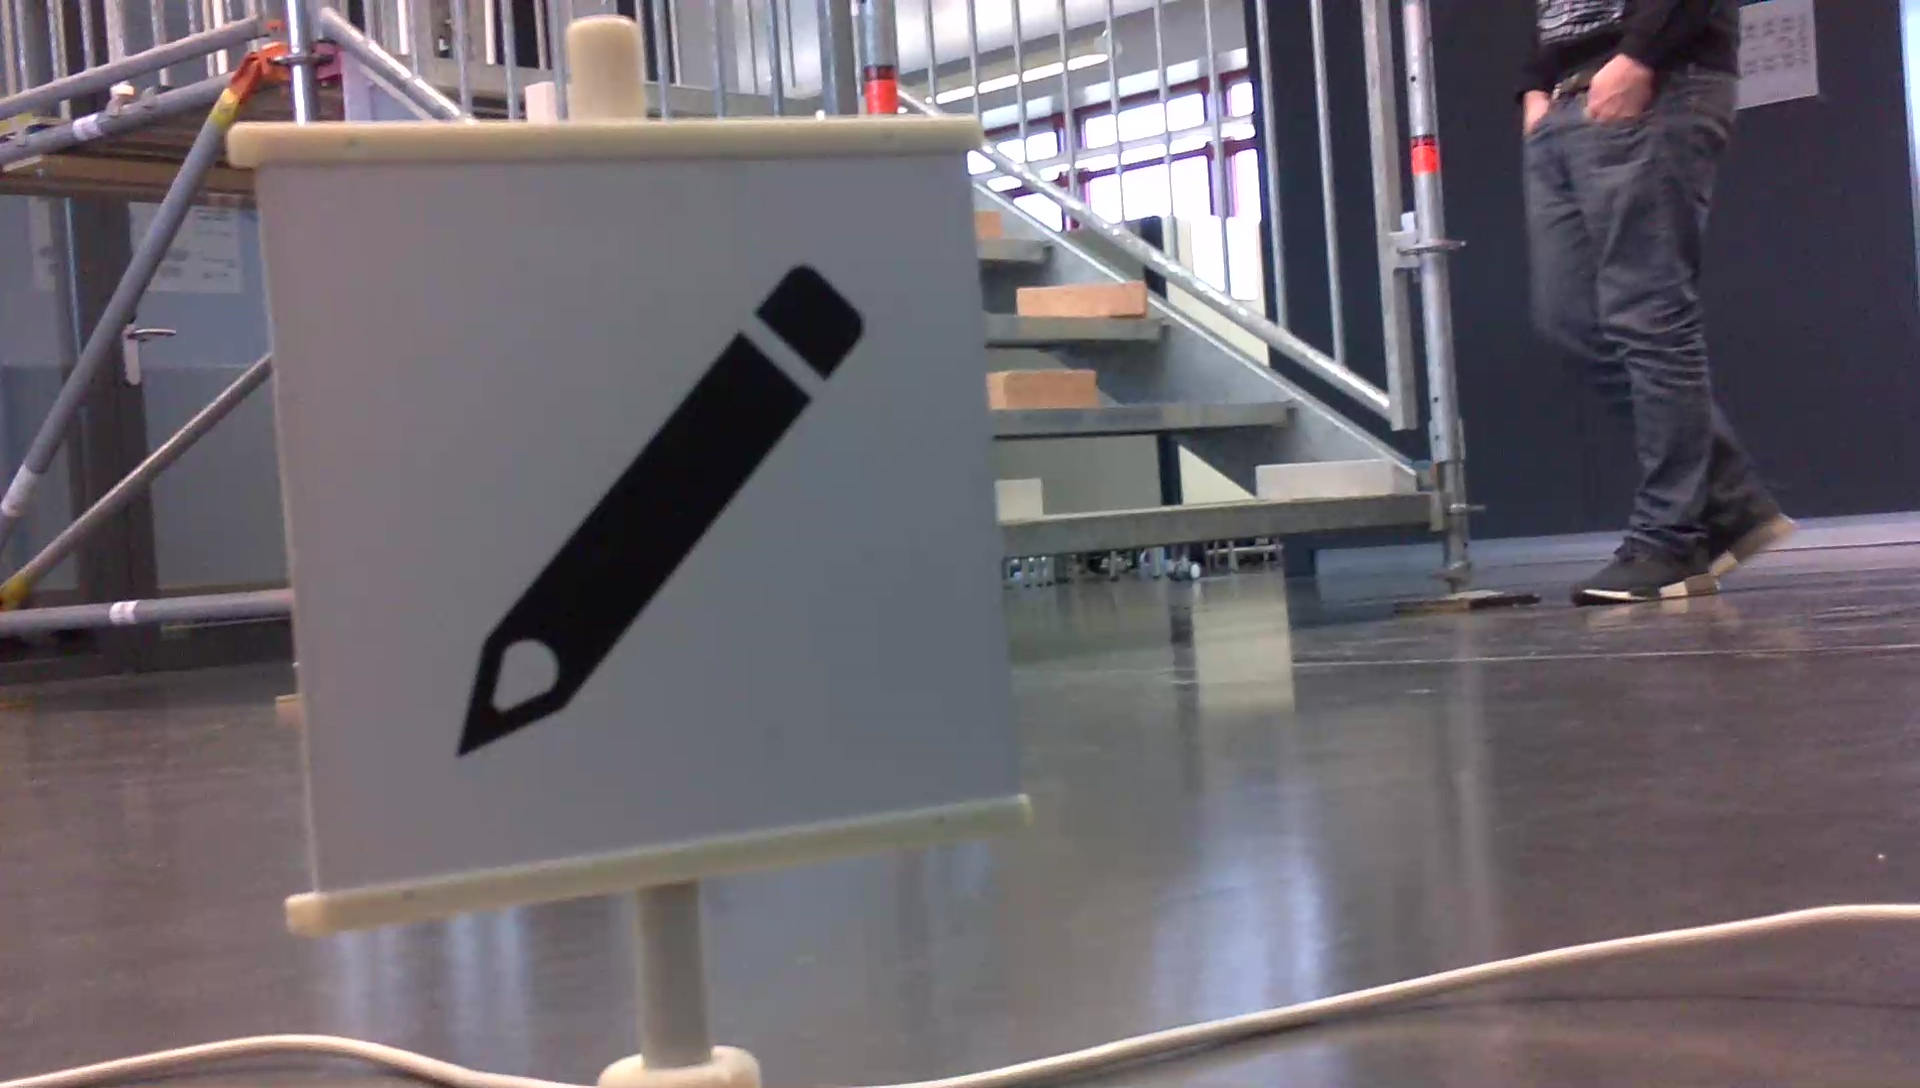brick: (1259, 458, 1390, 496), (1015, 281, 1145, 315), (988, 368, 1096, 404), (996, 480, 1039, 520), (976, 210, 1001, 239)
edge: (1004, 497, 1425, 553), (992, 401, 1305, 433), (980, 313, 1174, 335), (976, 235, 1055, 260)
pencil: (448, 249, 885, 768)
